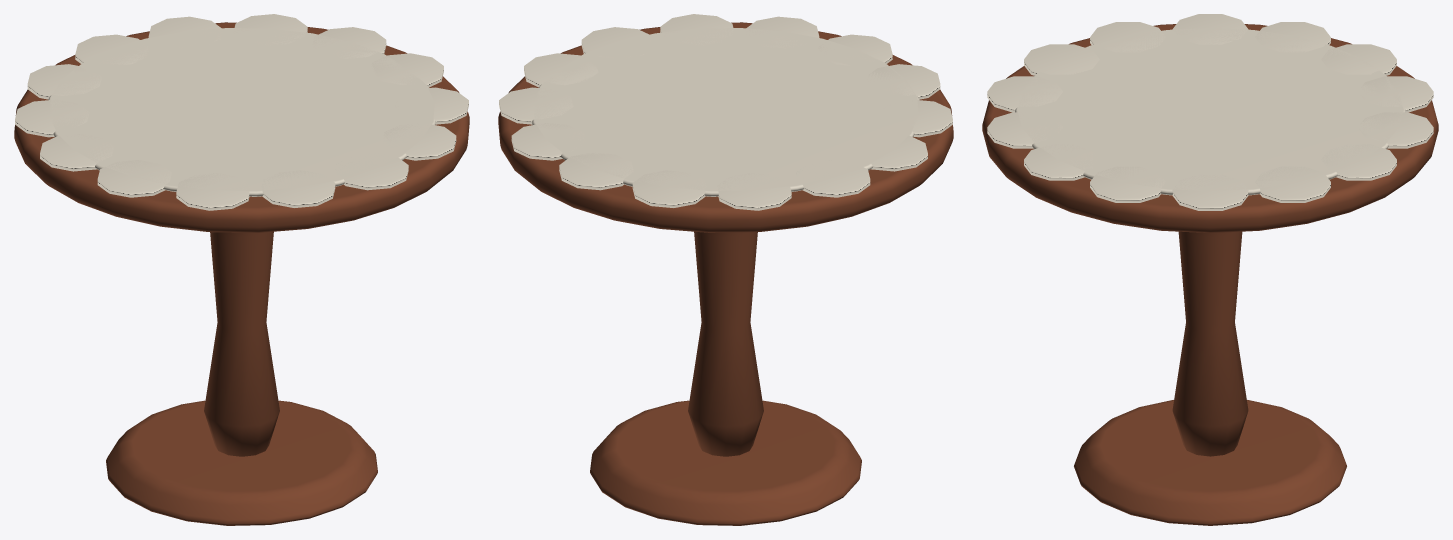
The model's file is round-table.glb.
3 views of the same model, side by side, from view 1: azimuth 30°, elevation 25°; view 2: azimuth 150°, elevation 25°; view 3: azimuth 270°, elevation 25° (orthographic).
Visible parts, largest first — view 1: round-table; view 2: round-table; view 3: round-table.
Part boxes in pixels (box(x1,y1,x2,y2)): round-table: box(14, 14, 469, 525); round-table: box(498, 14, 953, 525); round-table: box(982, 14, 1438, 525).
Bounding box in the file's own units: 0.84 × 0.732 × 0.84.
